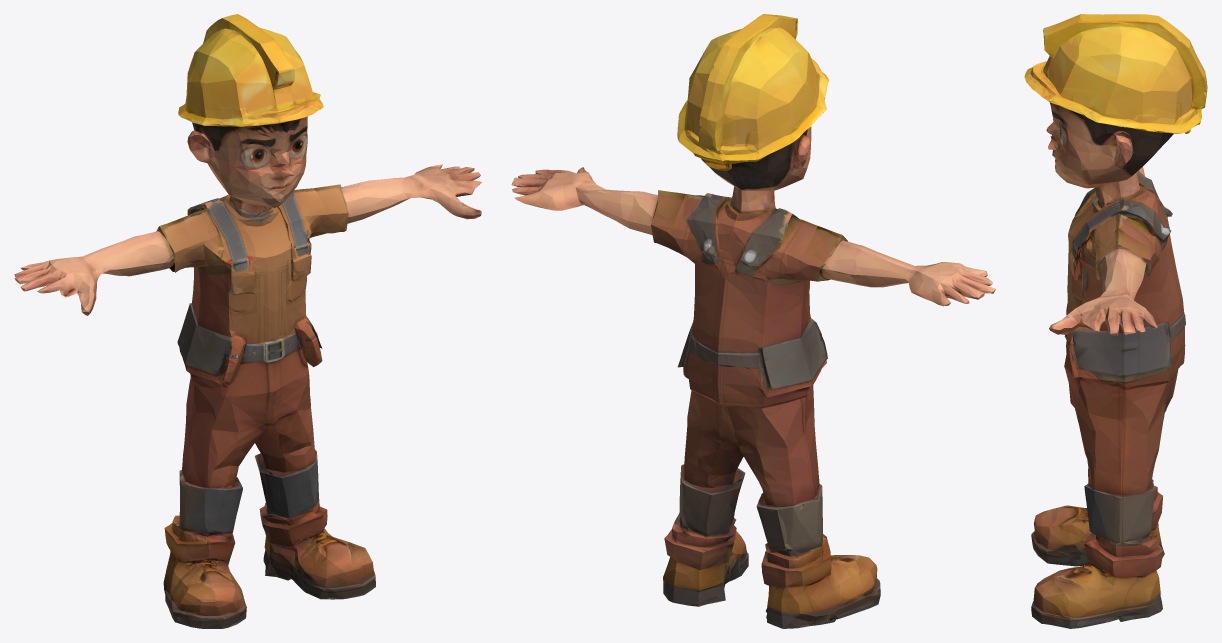
The model's file is A_stylized_3D_cartoon_0610222130_texture.fbx.
The picture shows the model from 3 angles, left to right: view 1: azimuth 30°, elevation 25°; view 2: azimuth 150°, elevation 25°; view 3: azimuth 270°, elevation 25°; orthographic projection. The views are drawn at different scales.
Parts seen in each view (by area): view 1: temp; view 2: temp; view 3: temp.
Boxes of the visible parts, x1,y1,x2,y2 form: temp: (14, 14, 481, 628); temp: (511, 14, 995, 628); temp: (1024, 14, 1207, 628).
Bounding box in the file's own units: 173 × 199 × 58.43.
1 material, 1 textured.
